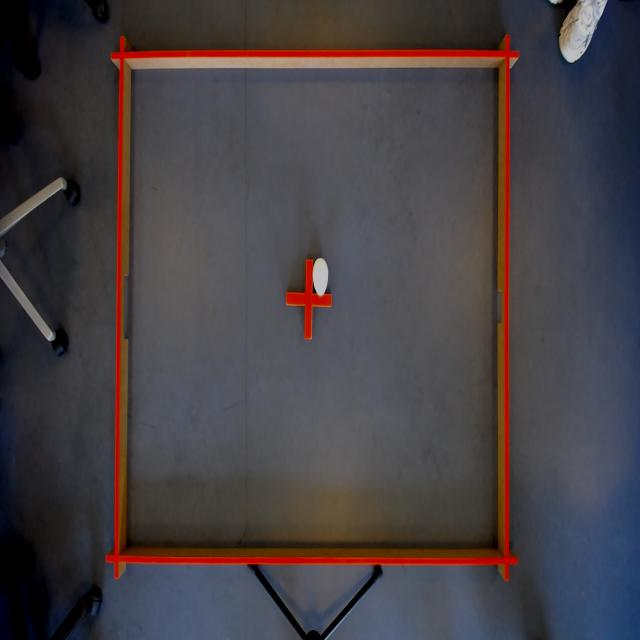cross: (284, 256, 334, 343)
egg: (312, 255, 331, 298)
